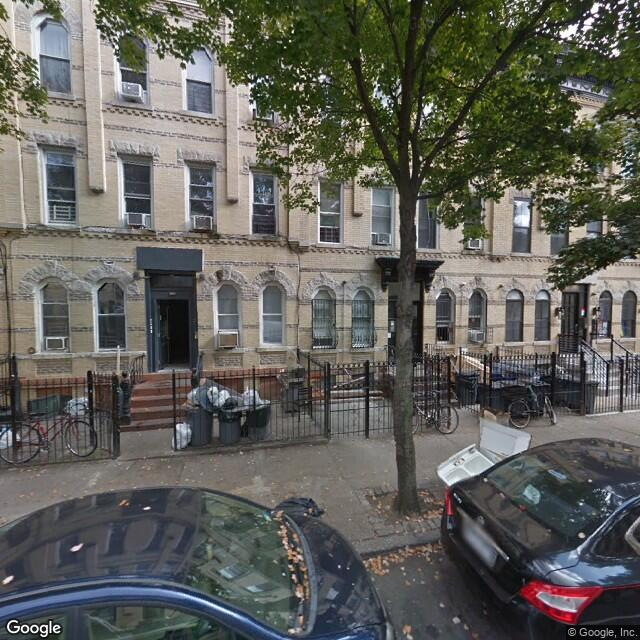litter: (420, 421, 547, 496)
